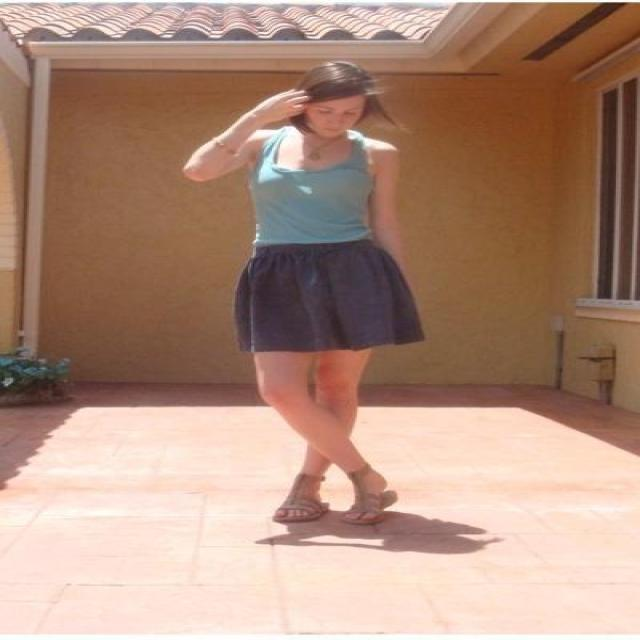shirt: (250, 141, 371, 242)
shoe: (280, 456, 395, 531)
skirt: (235, 239, 422, 351)
